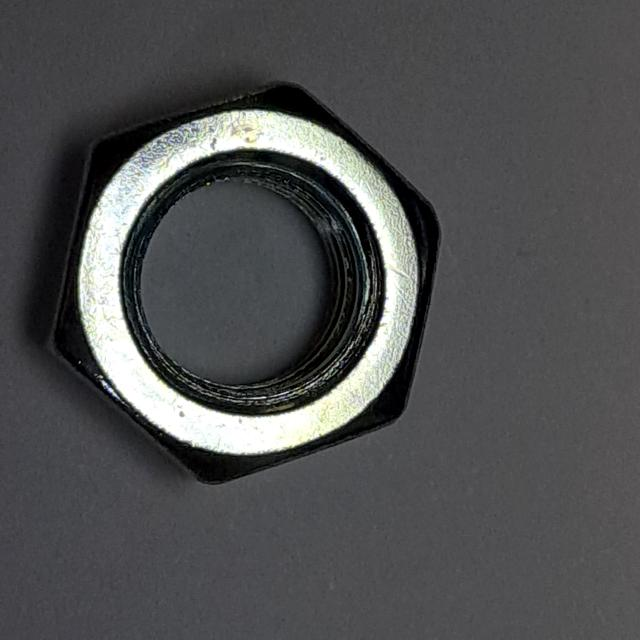Excellent: (25, 70, 455, 498)
